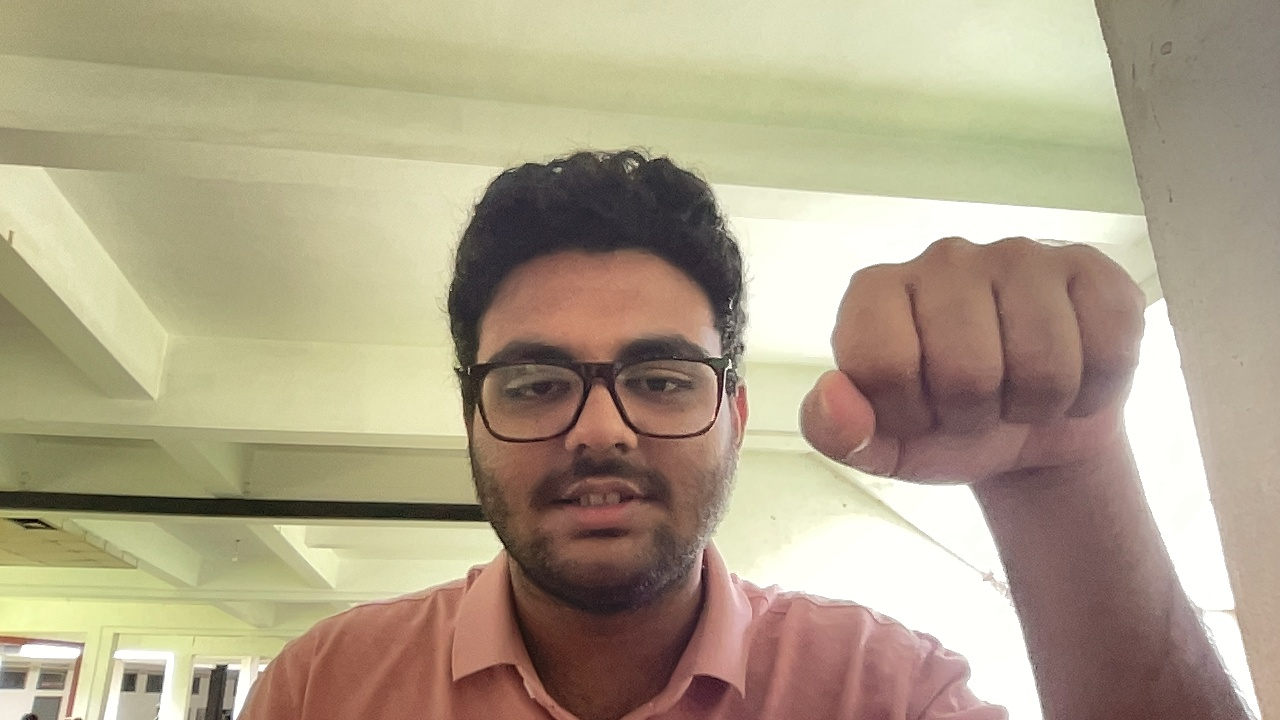no: (778, 218, 1160, 508)
